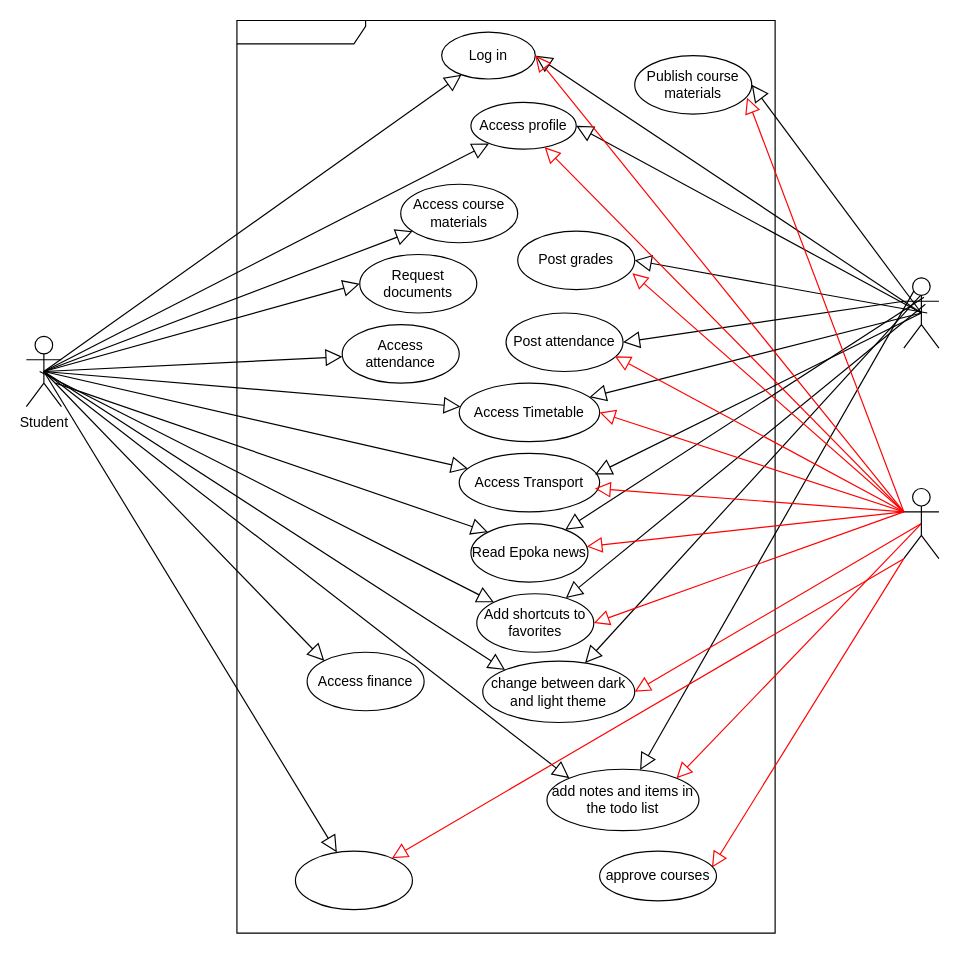
This 971x954 diagram has some shape labels left out. Here are the shapes that lost their labels. From the top down, the box of each, then its label:
(903, 277, 939, 348): Professor
(236, 19, 775, 933): Epoka e-learner
(903, 487, 939, 559): Advisor
(294, 850, 412, 910): Access grades
